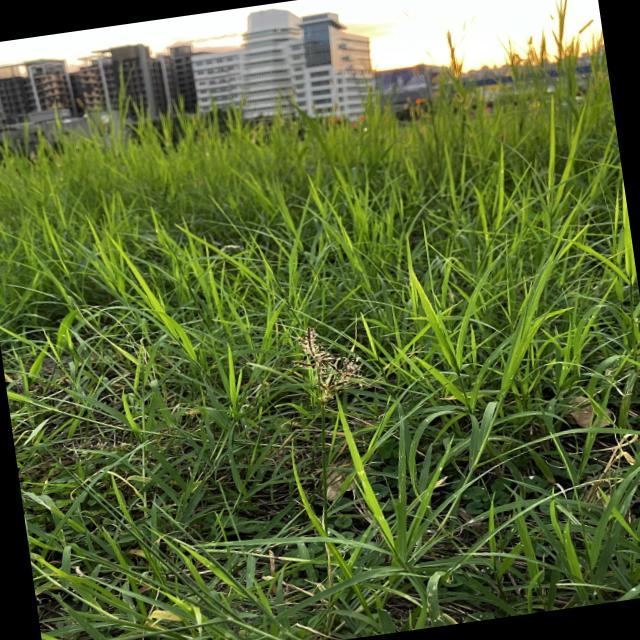cyperus: (278, 312, 376, 404), (71, 412, 156, 474)
